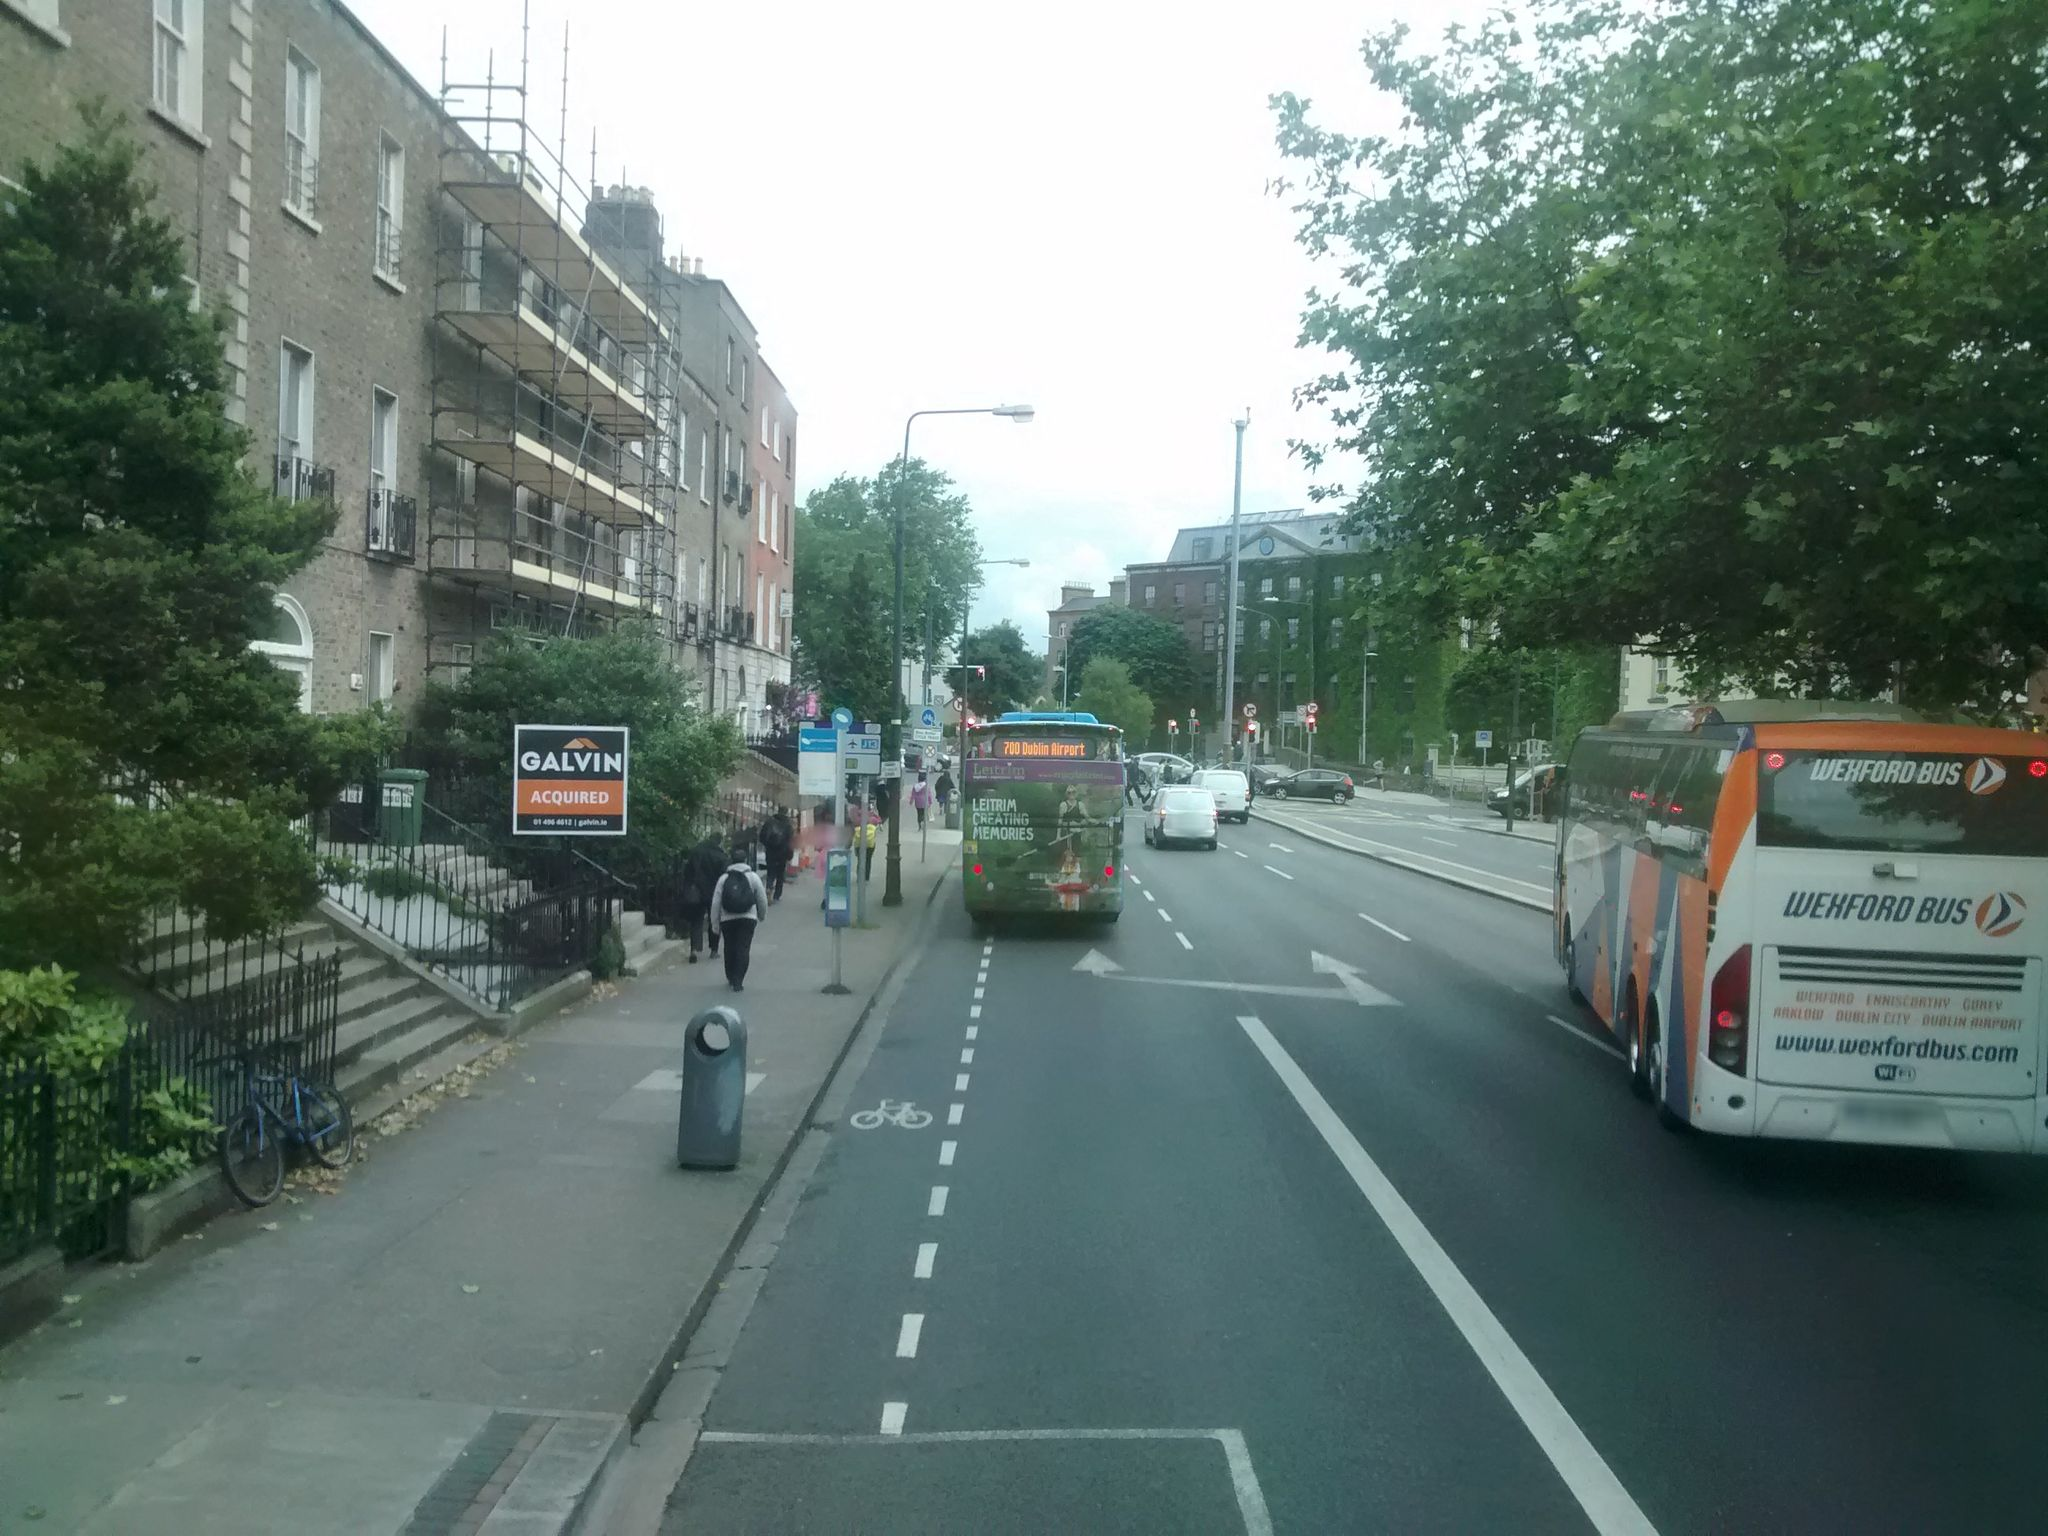property sign: (506, 695, 643, 862)
